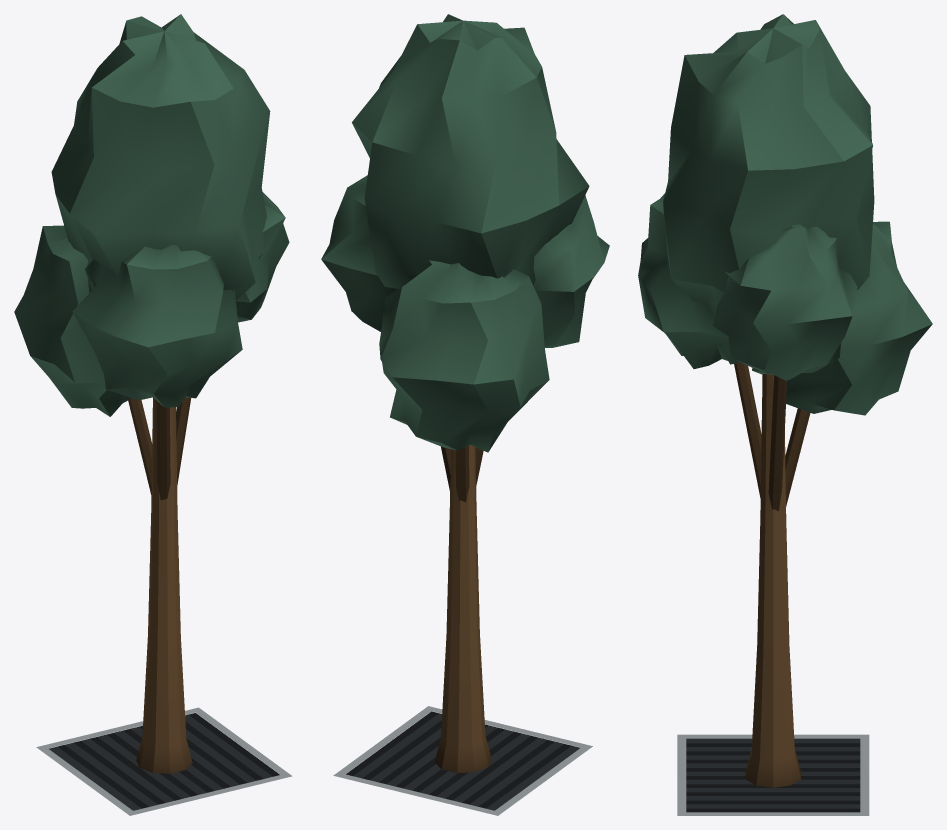
The model's file is tree-column.lod0.glb.
The picture shows the model from 3 angles, left to right: view 1: azimuth 30°, elevation 25°; view 2: azimuth 150°, elevation 25°; view 3: azimuth 270°, elevation 25°; orthographic projection. The views are drawn at different scales.
Parts seen in each view (by area): view 1: structure; view 2: structure; view 3: structure.
Part boxes in pixels (bbox=[...]): structure: bbox=[14, 14, 292, 815]; structure: bbox=[321, 14, 609, 815]; structure: bbox=[638, 14, 932, 815].
Bounding box in the file's own units: 2.28 × 7.3 × 2.61.
